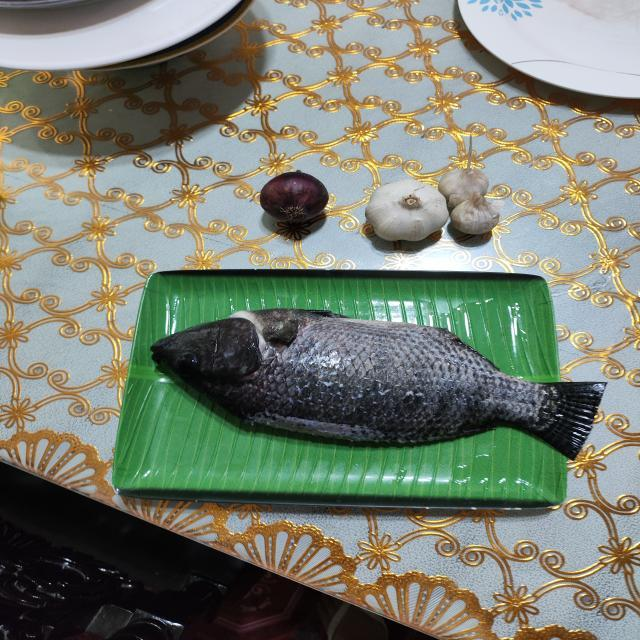fish: (153, 307, 605, 458)
garlic: (369, 166, 496, 244)
onion: (260, 171, 326, 222)
